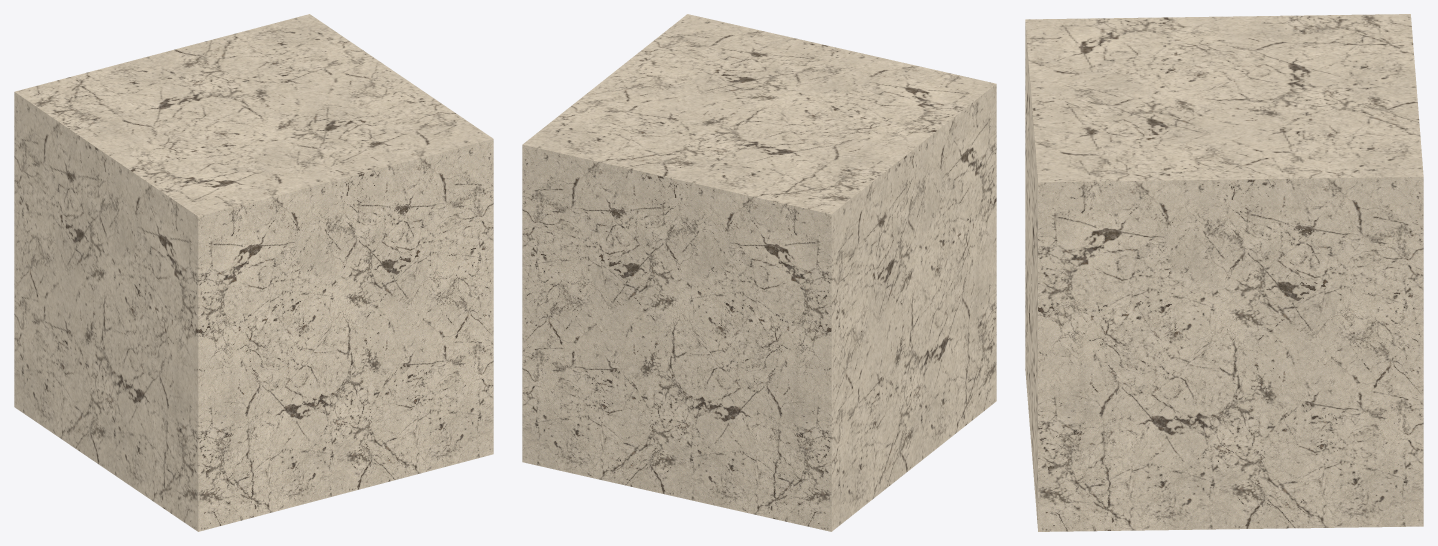
3 renders of one model, left to right at view 1: azimuth 30°, elevation 25°; view 2: azimuth 150°, elevation 25°; view 3: azimuth 270°, elevation 25°, orthographic. The views are drawn at different scales.
Visible parts, largest first — view 1: AnimatedCube; view 2: AnimatedCube; view 3: AnimatedCube.
Part boxes in pixels (x1,y1,x2,y2): AnimatedCube: (14, 14, 493, 531); AnimatedCube: (522, 14, 996, 531); AnimatedCube: (1025, 14, 1423, 531).
Size of the model in its own units: 2.07 by 2 by 2.07.
1 material, 1 textured.
